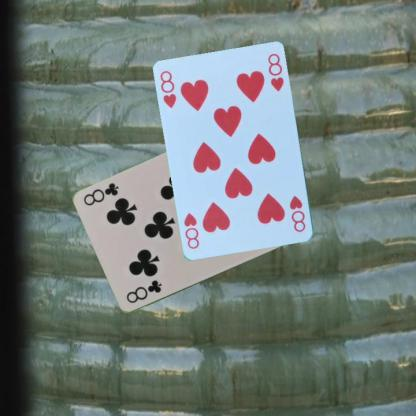8c: (123, 277, 164, 305)
8h: (158, 68, 178, 110), (288, 193, 308, 233)
